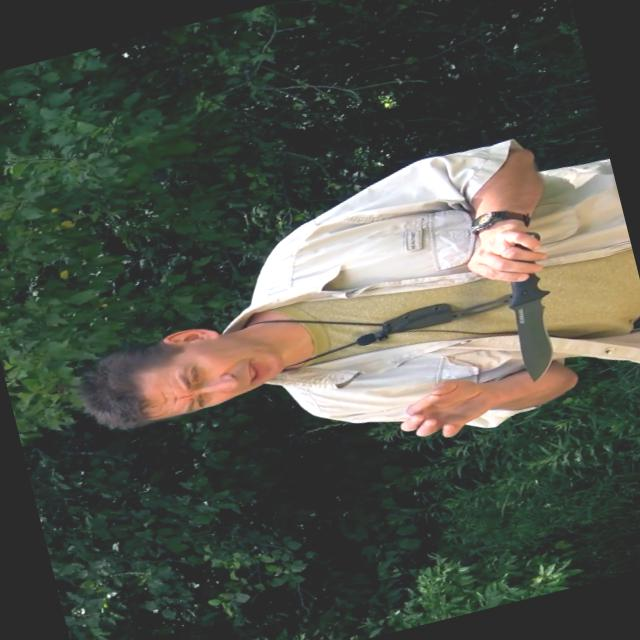knife: (458, 225, 576, 392)
